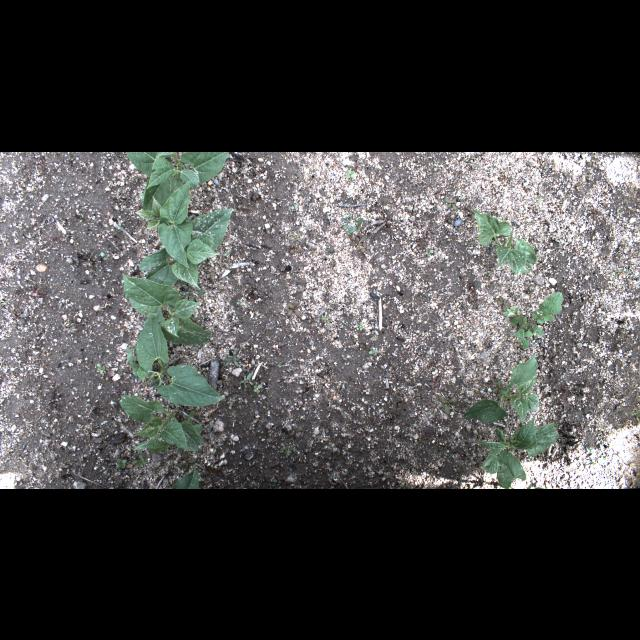crop: (140, 182, 236, 292), (127, 316, 220, 408), (120, 272, 216, 346), (126, 151, 230, 215), (478, 416, 560, 486), (462, 353, 542, 421), (120, 395, 202, 461), (473, 208, 537, 274), (166, 464, 200, 488)
weed: (498, 290, 562, 350), (348, 232, 376, 258), (237, 370, 265, 396), (338, 212, 366, 234), (278, 231, 306, 253), (443, 190, 463, 214), (439, 392, 461, 413), (220, 349, 243, 369), (467, 278, 483, 306), (36, 155, 58, 175), (530, 188, 550, 208), (284, 197, 304, 213), (286, 300, 306, 316), (280, 442, 298, 458), (614, 262, 630, 280), (354, 315, 368, 335), (582, 436, 596, 456), (342, 164, 356, 180), (232, 294, 248, 308), (114, 458, 130, 472), (320, 314, 336, 326), (93, 362, 109, 373), (214, 376, 228, 388), (134, 456, 150, 466), (367, 348, 383, 354), (276, 362, 284, 368)
